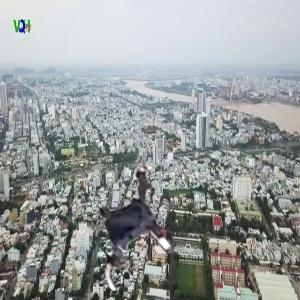drone: (67, 163, 197, 293)
